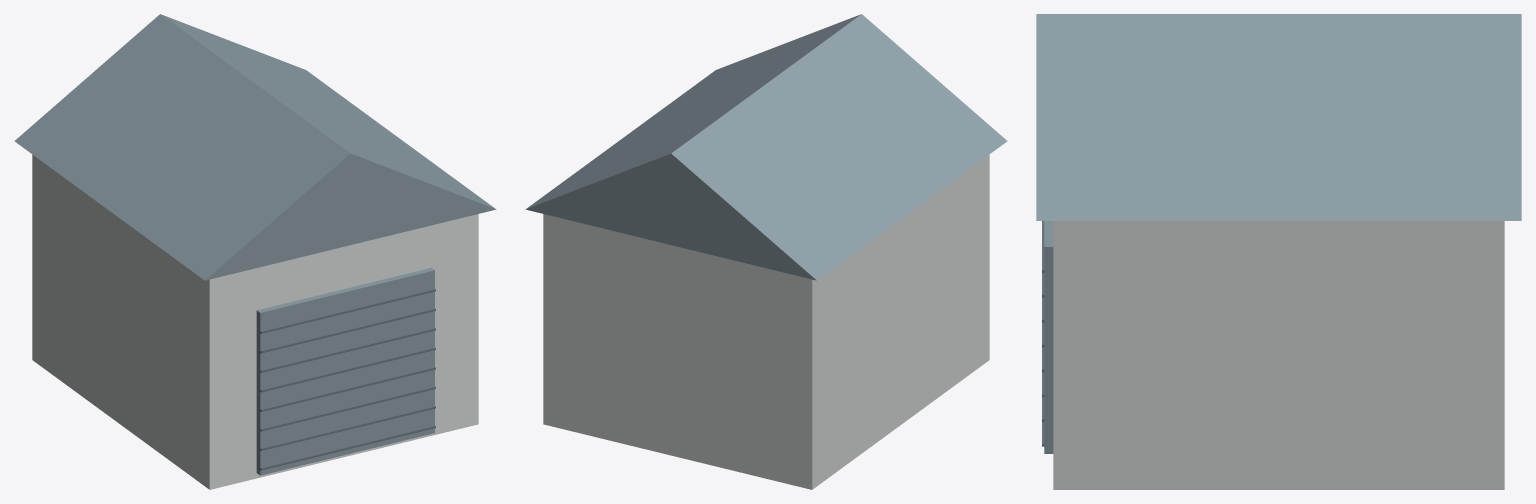
File: garage.glb
3 renders of one model, left to right at view 1: azimuth 30°, elevation 25°; view 2: azimuth 150°, elevation 25°; view 3: azimuth 270°, elevation 25°, orthographic. The views are drawn at different scales.
Visible parts, largest first — view 1: garage_001, garage_000, garage_002, garage_003, garage_005, garage_007, garage_010, garage_004, garage_006, garage_008, garage_009; view 2: garage_000, garage_001; view 3: garage_000, garage_001, garage_002.
Boxes of the visible parts, x1,y1,x2,y2 form: garage_001: (14,14,496,280); garage_000: (32,154,478,489); garage_002: (256,268,434,475); garage_003: (260,425,435,470); garage_005: (260,386,435,431); garage_007: (260,347,435,392); garage_010: (260,289,435,333); garage_004: (260,406,435,450); garage_006: (260,367,435,411); garage_008: (260,328,435,372); garage_009: (260,308,435,353); garage_000: (543,154,989,489); garage_001: (525,14,1007,280); garage_000: (1053,221,1504,489); garage_001: (1036,14,1521,220); garage_002: (1044,221,1053,453).
Bounding box in the file's own units: 3.8 × 3.84 × 4.3.
